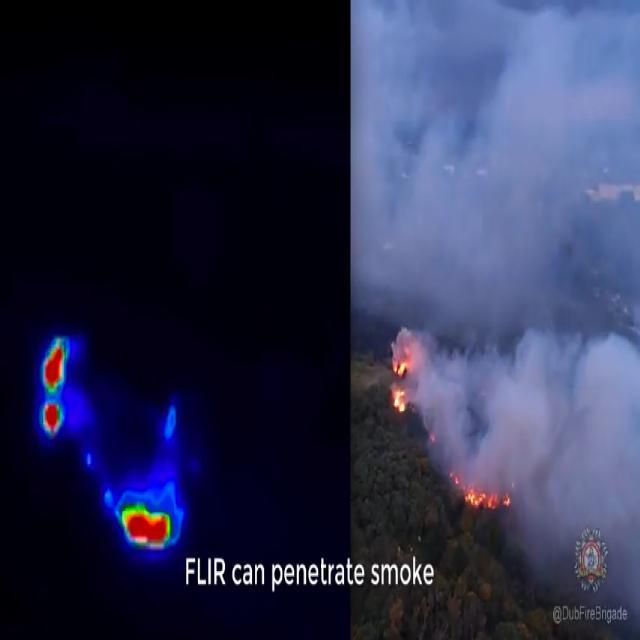fire: (123, 500, 174, 554), (42, 335, 67, 435)
